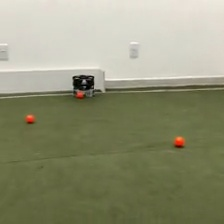ball: (173, 135, 185, 147), (25, 113, 35, 123), (76, 90, 84, 98)
goal: (1, 66, 107, 94)
robot: (71, 73, 96, 99)
